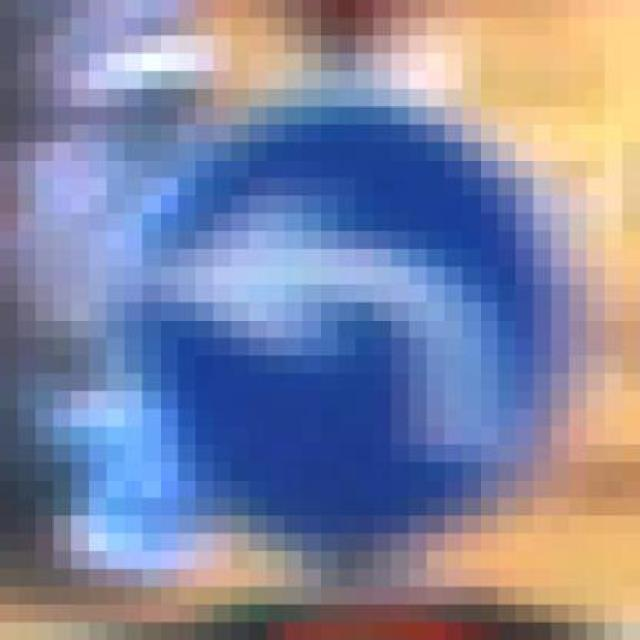Turn left ahead: (125, 71, 569, 569)
